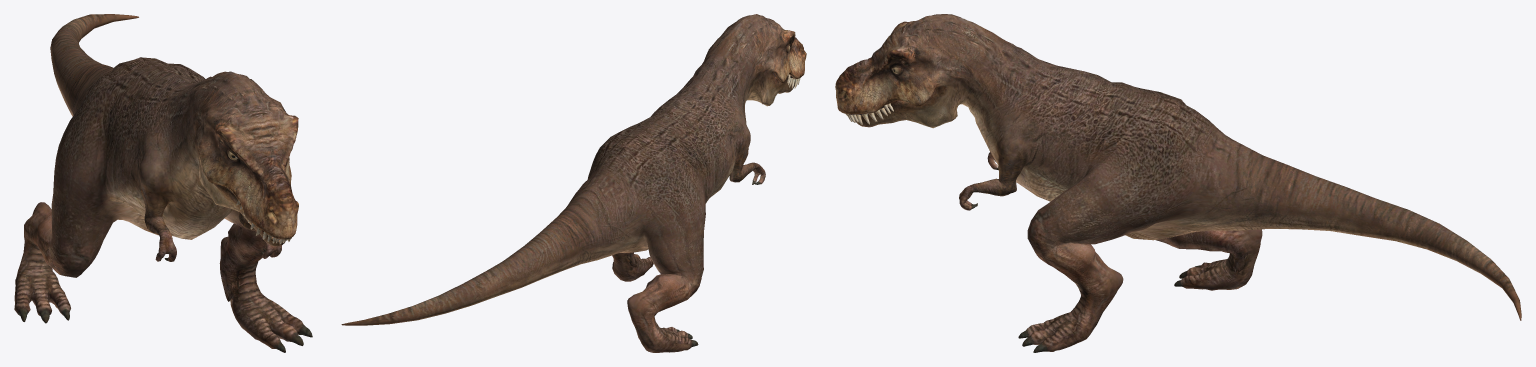
The picture shows the model from 3 angles, left to right: view 1: azimuth 30°, elevation 25°; view 2: azimuth 150°, elevation 25°; view 3: azimuth 270°, elevation 25°; orthographic projection. The views are drawn at different scales.
Parts seen in each view (by area): view 1: node_id9; view 2: node_id9; view 3: node_id9.
Part boxes in pixels (x1,y1,x2,y2): node_id9: (14, 14, 312, 352); node_id9: (341, 14, 806, 352); node_id9: (835, 14, 1521, 352).
Size of the model in its own units: 0.4887 by 0.5096 by 1.09.
Materials: 2 (2 with a texture image).
